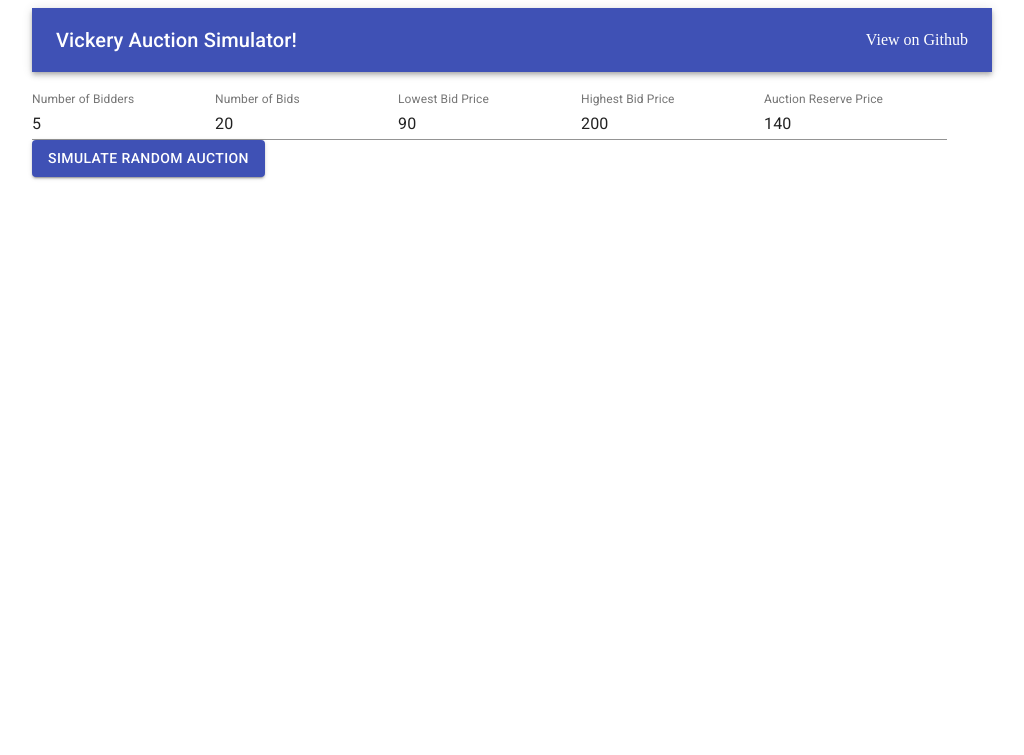
it: the App component › performs the correct actions › does not render more than 1000 bids
Click the button with id "RunAuction": (148, 158) x1=32 y1=140 x2=265 y2=176
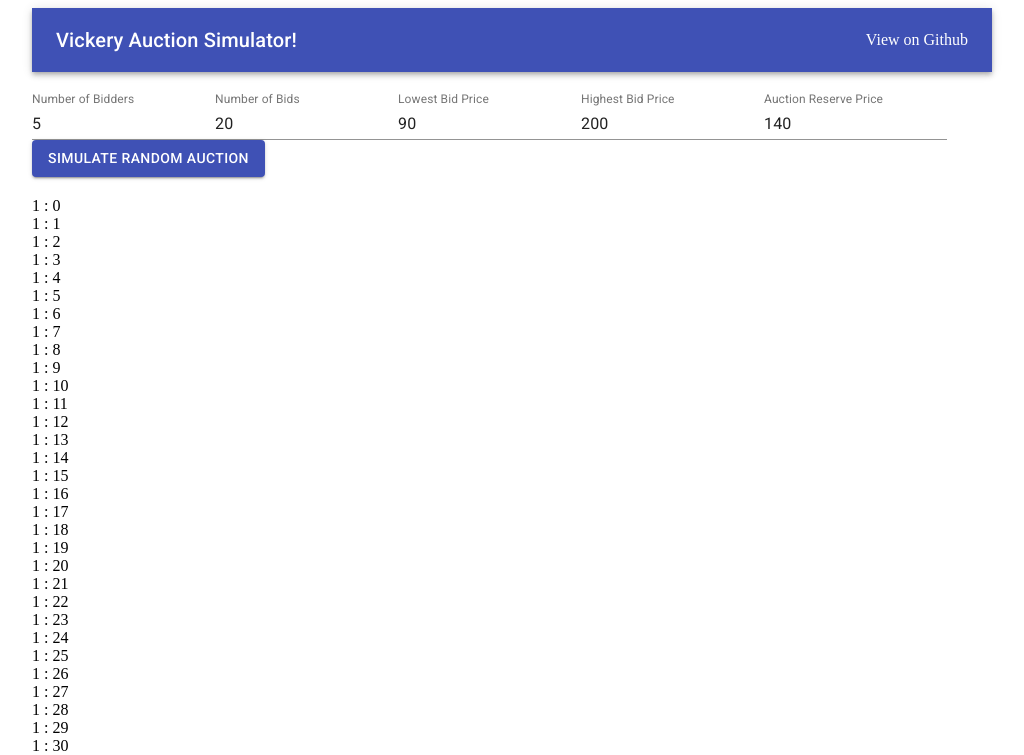
expect the number of elements with class "bidDisplay-bid" is 1000: met, box x1=32 y1=196 x2=60 y2=214
